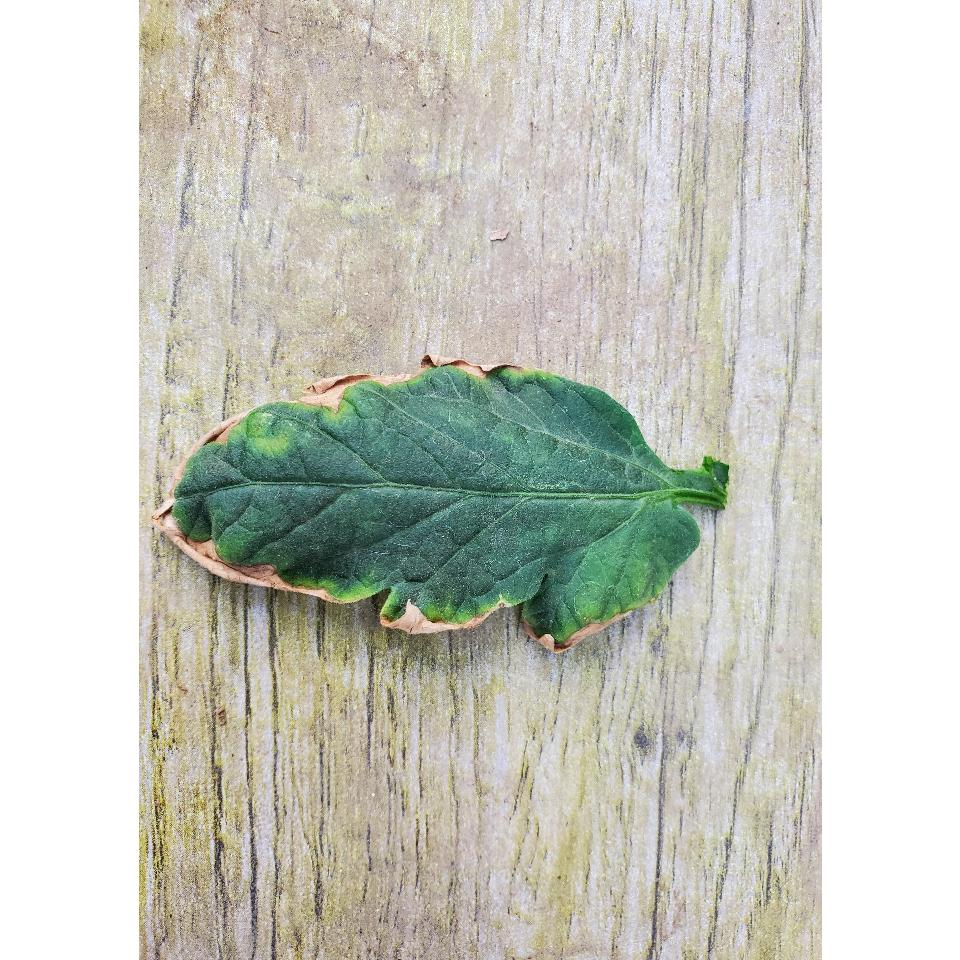tomato_bacterial_blight: (145, 340, 753, 666)
